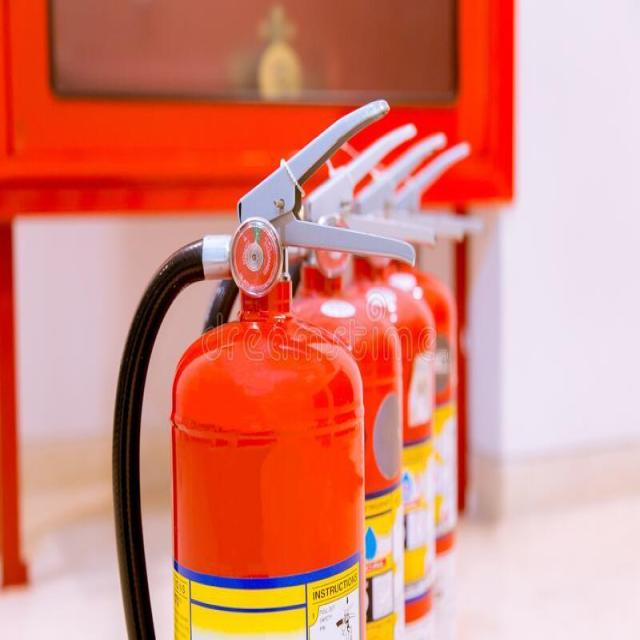fire_extinguisher: (104, 90, 418, 639)
